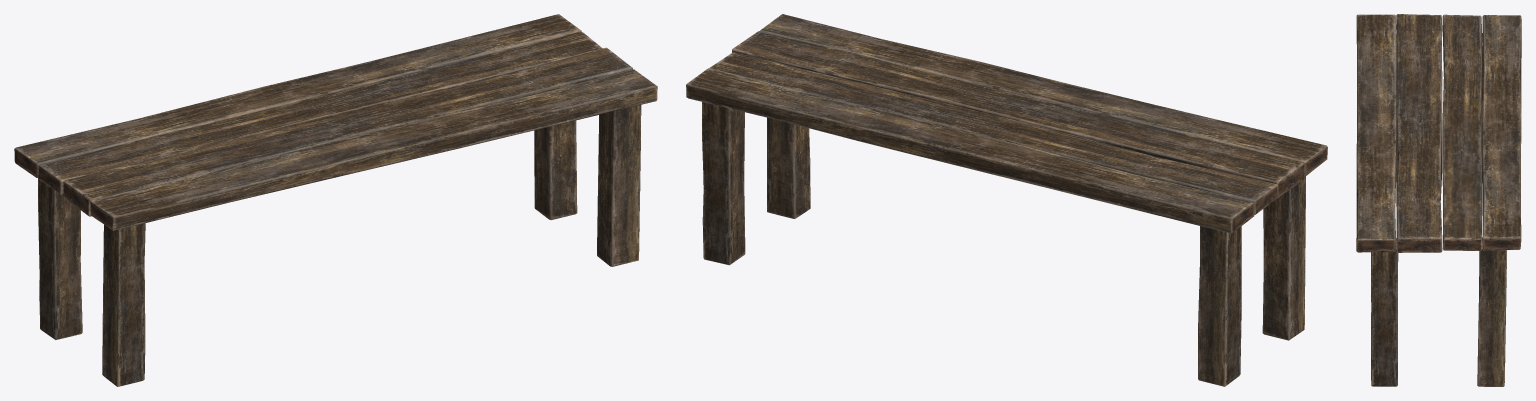
Rendered from SM_Table.fbx.
3 renders of one model, left to right at view 1: azimuth 30°, elevation 25°; view 2: azimuth 150°, elevation 25°; view 3: azimuth 270°, elevation 25°, orthographic. The views are drawn at different scales.
Visible parts, largest first — view 1: SM_Table_LOD0; view 2: SM_Table_LOD0; view 3: SM_Table_LOD0.
Boxes of the visible parts, left/top/right/bottom form: SM_Table_LOD0: left=14, top=14, right=657, bottom=386; SM_Table_LOD0: left=686, top=14, right=1327, bottom=386; SM_Table_LOD0: left=1356, top=14, right=1521, bottom=386.
Bounding box in the file's own units: 278 × 86.32 × 88.27.
